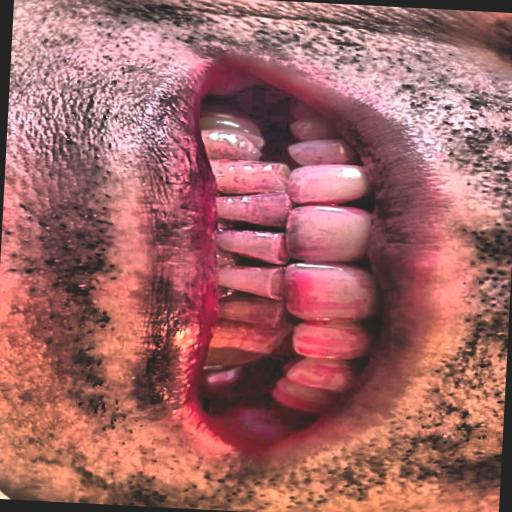Plaque: (197, 110, 395, 406)
